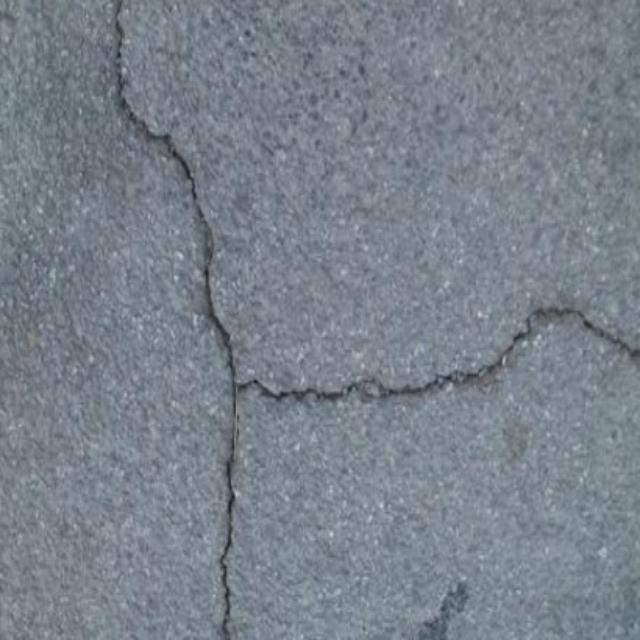Longitudinal: (224, 224, 416, 416)
Transverse: (224, 224, 416, 416)
